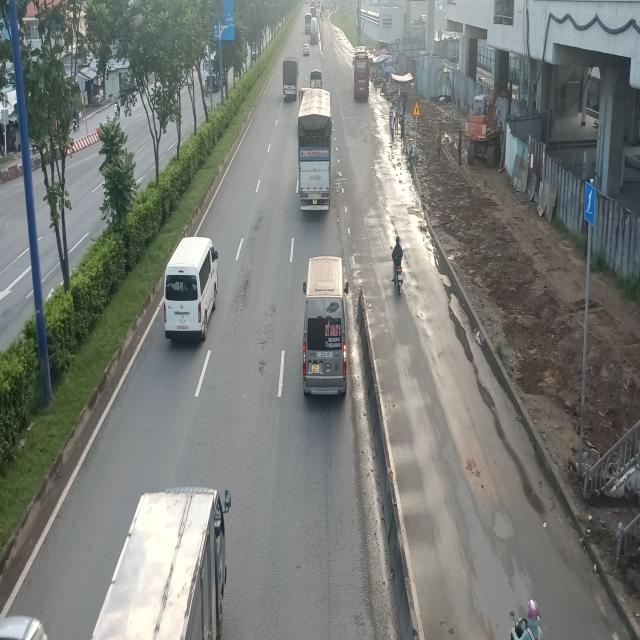coach: (353, 45, 370, 99)
truck: (70, 489, 232, 640), (296, 88, 332, 213), (281, 58, 299, 103)
van: (304, 255, 352, 399), (165, 237, 222, 344)
